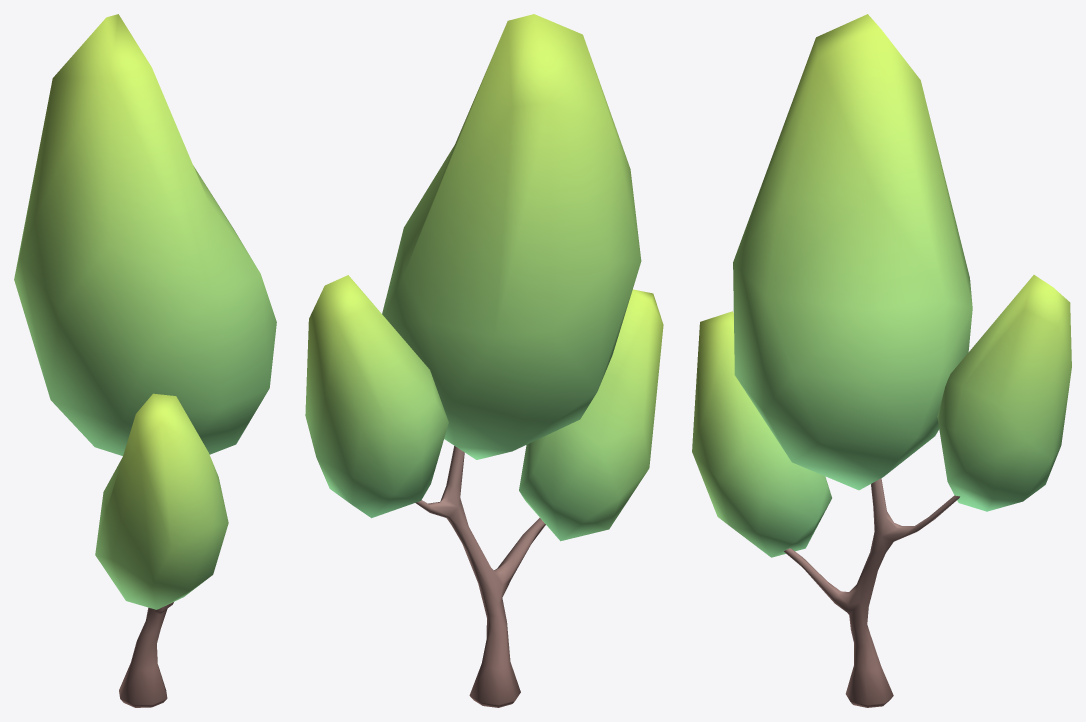
The model's file is Tree01_M_Green.fbx.
The picture shows the model from 3 angles, left to right: view 1: azimuth 30°, elevation 25°; view 2: azimuth 150°, elevation 25°; view 3: azimuth 270°, elevation 25°; orthographic projection. The views are drawn at different scales.
Visible parts, largest first — view 1: Tree01_M_Green; view 2: Tree01_M_Green; view 3: Tree01_M_Green.
Boxes of the visible parts, left/top/right/bottom form: Tree01_M_Green: left=14, top=14, right=276, bottom=707; Tree01_M_Green: left=305, top=14, right=663, bottom=707; Tree01_M_Green: left=692, top=14, right=1071, bottom=707.
Size of the model in its own units: 5.18 by 15.11 by 7.79.
